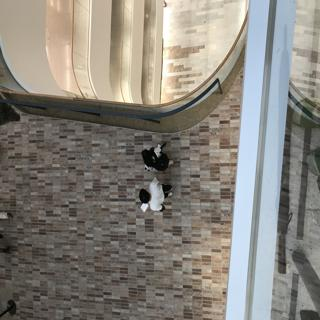person: (137, 138, 177, 183), (129, 179, 177, 216)
